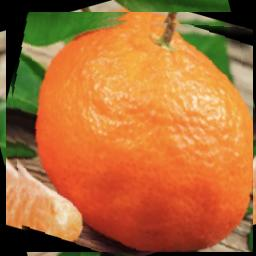Orange Fresh: (7, 12, 254, 252)
